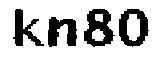0: (119, 2, 152, 52)
8: (82, 6, 115, 51)
k: (12, 7, 43, 49)
n: (45, 13, 76, 52)
